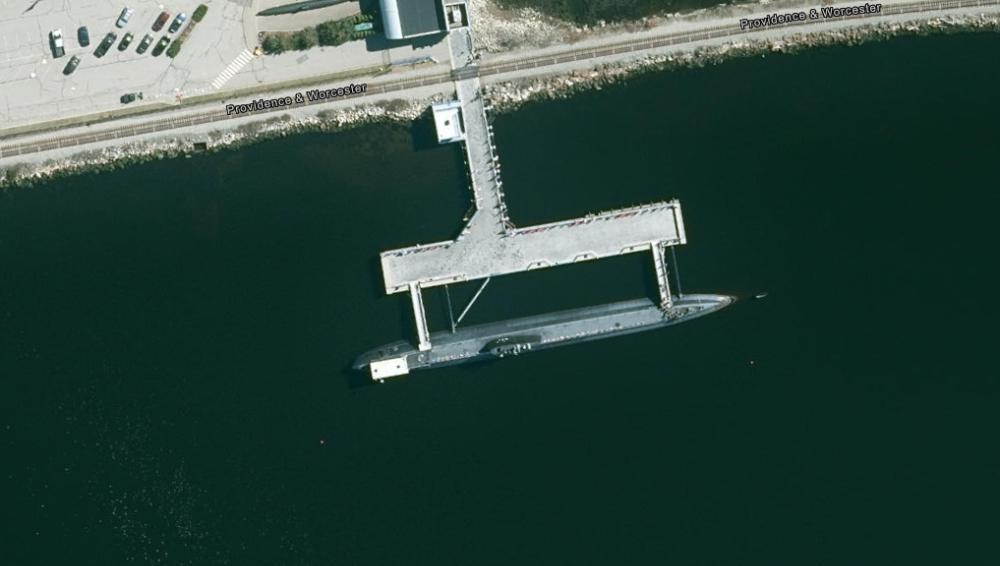submarine: (333, 288, 817, 389)
